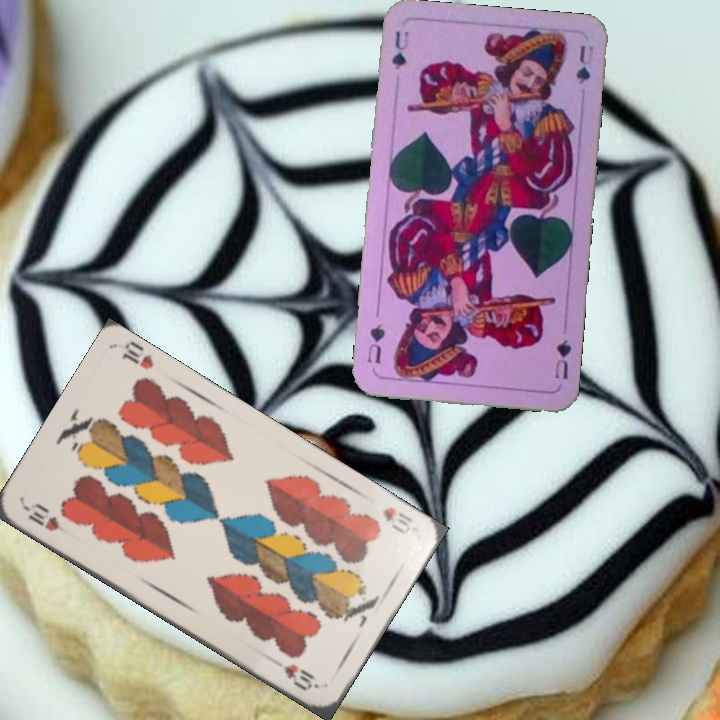GU: (550, 335, 574, 382), (387, 27, 412, 72)
H10: (20, 499, 72, 538), (377, 503, 416, 537)
